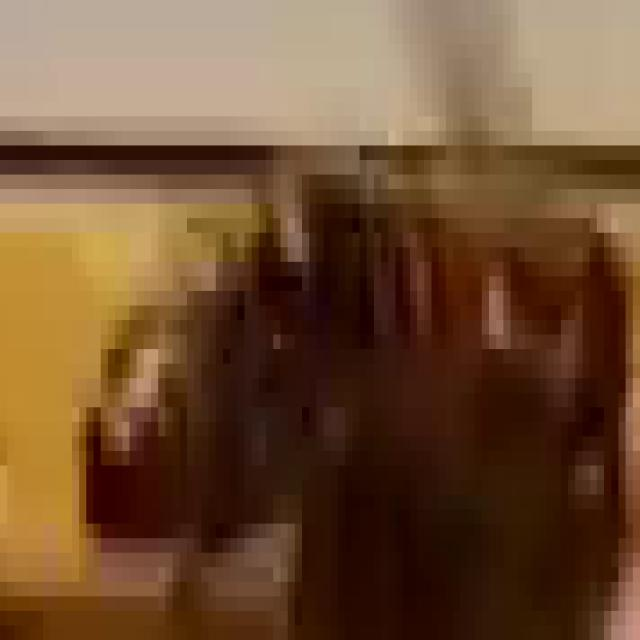honeybee: (70, 121, 628, 587)
